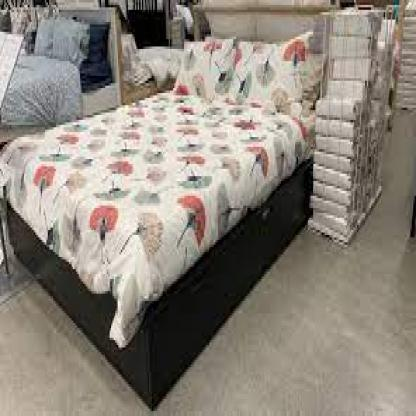Bed: (7, 17, 325, 392)
